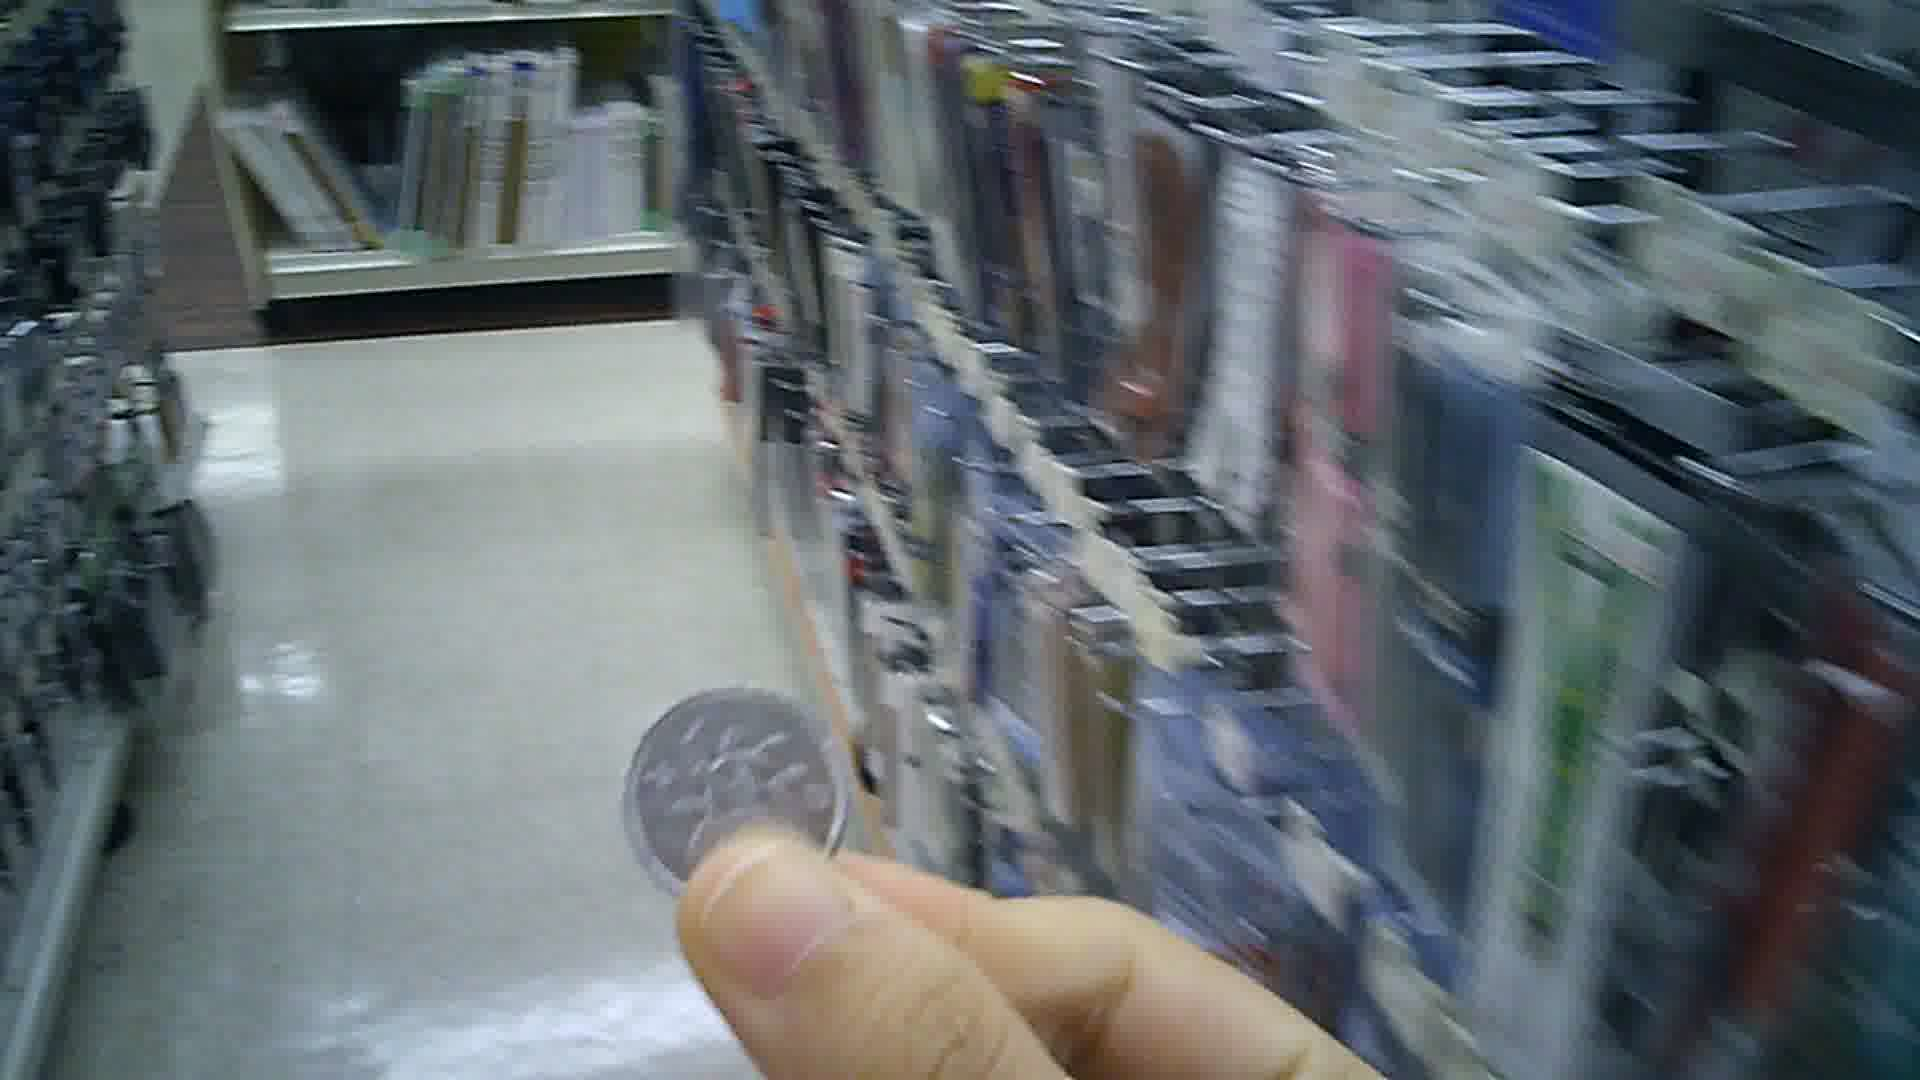1 Yen: (616, 682, 856, 906)
